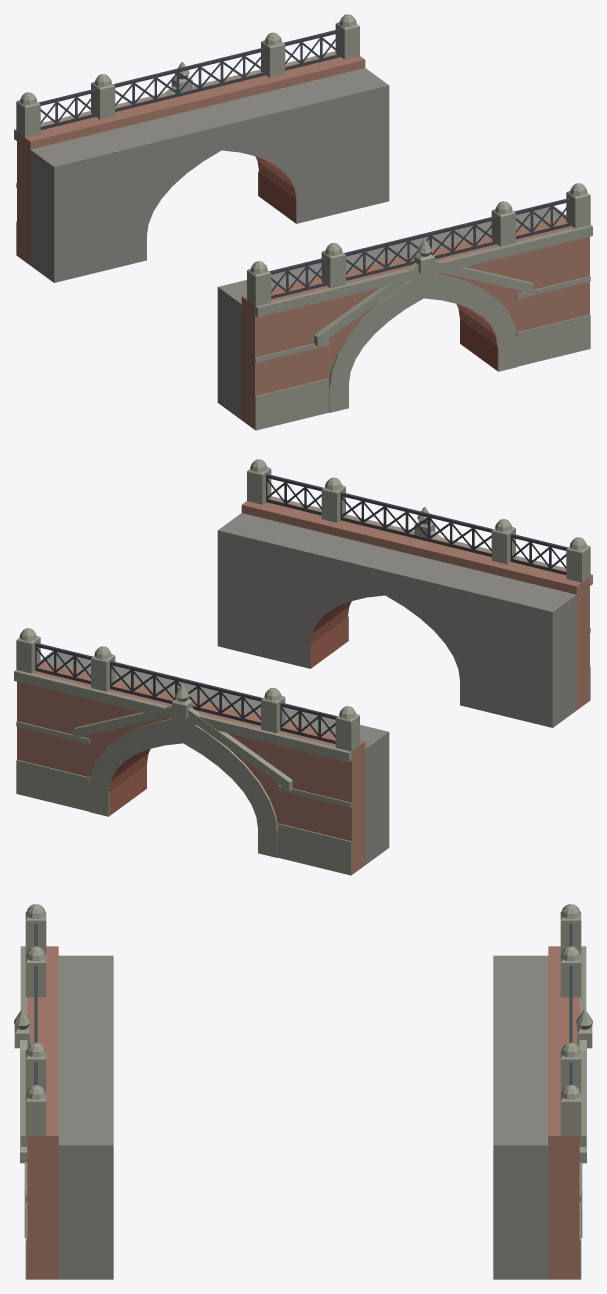
The model's file is nyc-greywacke-arch.glb.
The picture shows the model from 3 angles, top to bottom: view 1: azimuth 30°, elevation 25°; view 2: azimuth 150°, elevation 25°; view 3: azimuth 270°, elevation 25°; orthographic projection. The views are drawn at different scales.
Parts seen in each view (by area): view 1: Greywacke Arch; view 2: Greywacke Arch; view 3: Greywacke Arch.
Boxes of the visible parts, box(x1,y1,x2,y2) form: Greywacke Arch: box(14, 14, 592, 430); Greywacke Arch: box(14, 459, 592, 875); Greywacke Arch: box(14, 904, 592, 1279).
Size of the model in its own units: 13 by 6.08 by 16.78.
